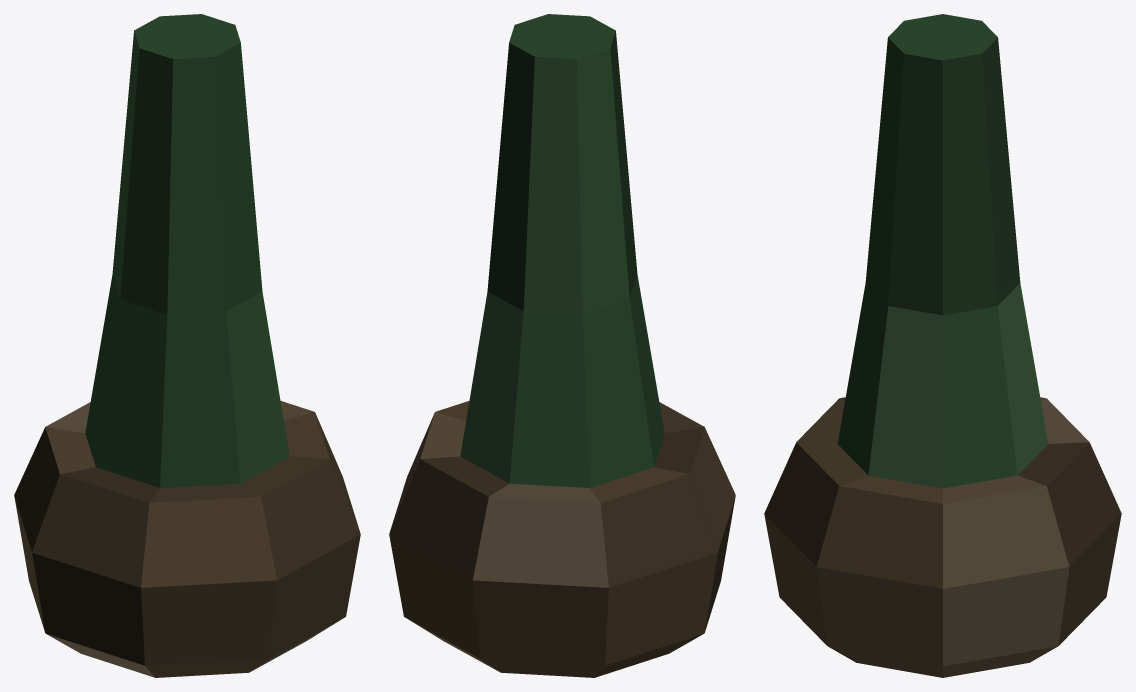
The model's file is Prop_VaseB.fbx.
3 views of the same model, side by side, from view 1: azimuth 30°, elevation 25°; view 2: azimuth 150°, elevation 25°; view 3: azimuth 270°, elevation 25° (orthographic).
Parts seen in each view (by area): view 1: Prop_VaseB; view 2: Prop_VaseB; view 3: Prop_VaseB.
Boxes of the visible parts, x1,y1,x2,y2 form: Prop_VaseB: [14, 14, 360, 677]; Prop_VaseB: [389, 14, 735, 677]; Prop_VaseB: [764, 14, 1121, 677].
Size of the model in its own units: 26.08 by 47.39 by 26.08.
